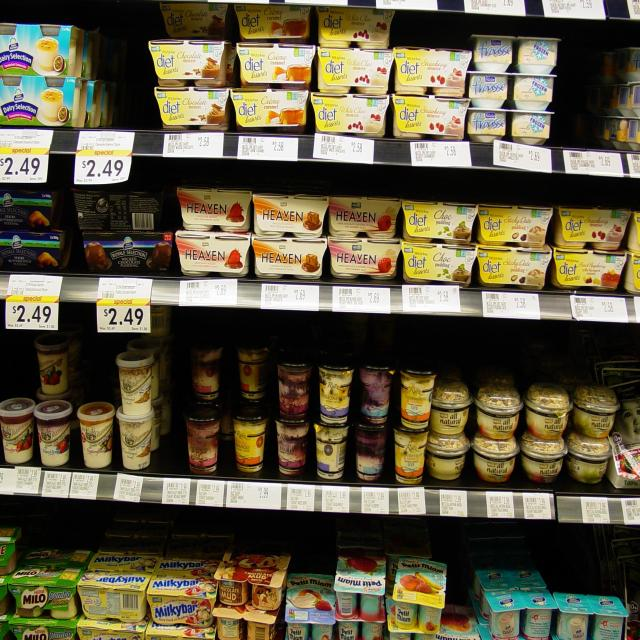empty_space: (102, 13, 146, 127), (565, 42, 607, 150)
